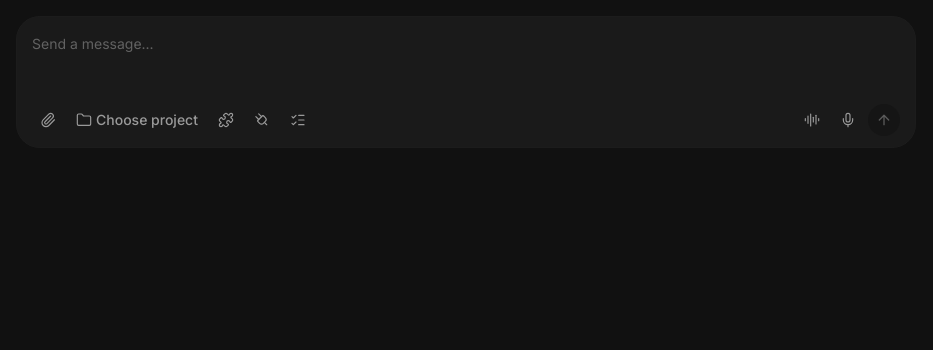
it: ChatView › stopping a run shows the interrupted card with a Retry button, and the composer is usable right away
The width and height of the screenshot is (933, 350).
Type "hello" into the text box with placeholder "Send a message...". click: (466, 44)
box: [32, 32, 900, 56]
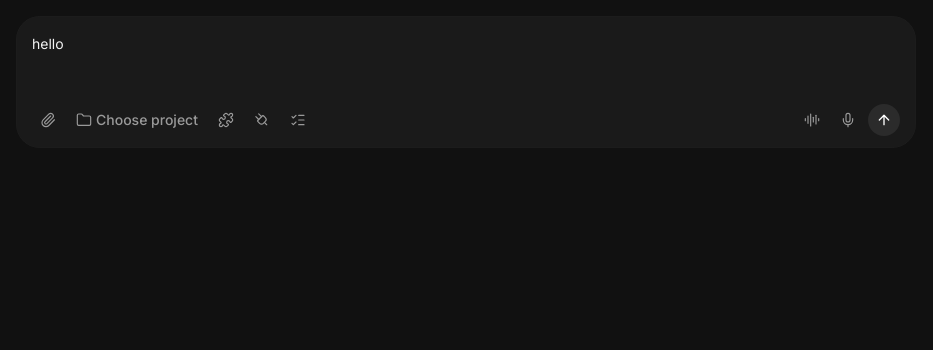
Press Enter in the text box with placeholder "Send a message...", box [32, 32, 900, 56]
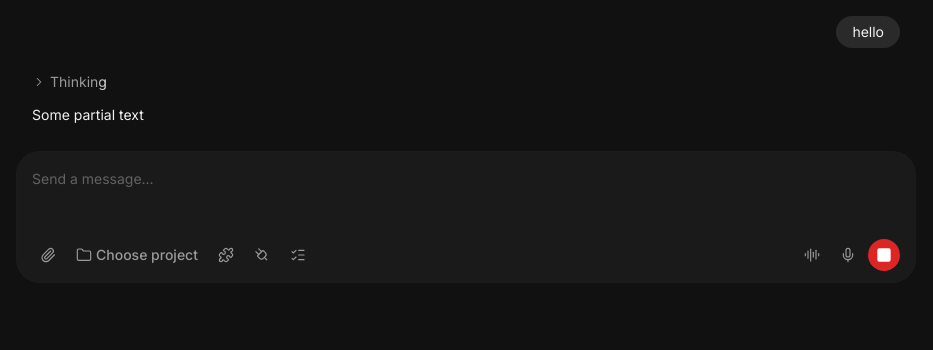
Check: the text box with placeholder "Send a message..." is empty, box [32, 167, 900, 191]
Check: the text "Some partial text" is shown, box [32, 104, 144, 127]
Check: the button named "Stop" is shown
Click the button named "Stop". click: (884, 255)
box: [868, 239, 900, 271]
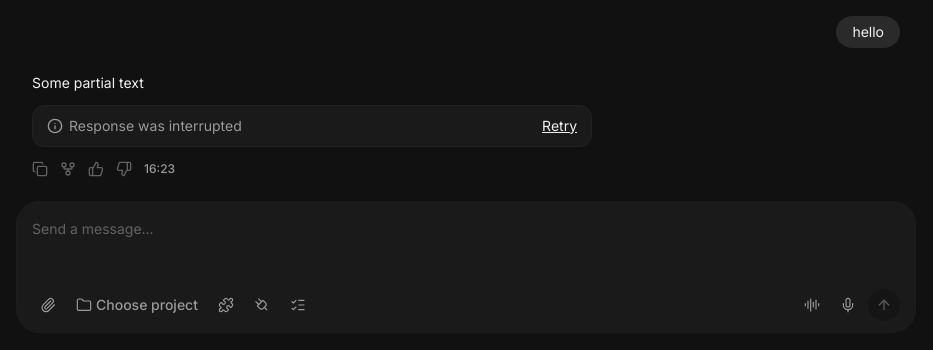
Check: the text "Some partial text" is shown once, box [32, 72, 144, 95]
Check: the text "Response was interrupted" is shown, box [47, 116, 242, 136]
Check: the button "Retry" is shown, box [542, 116, 577, 136]
